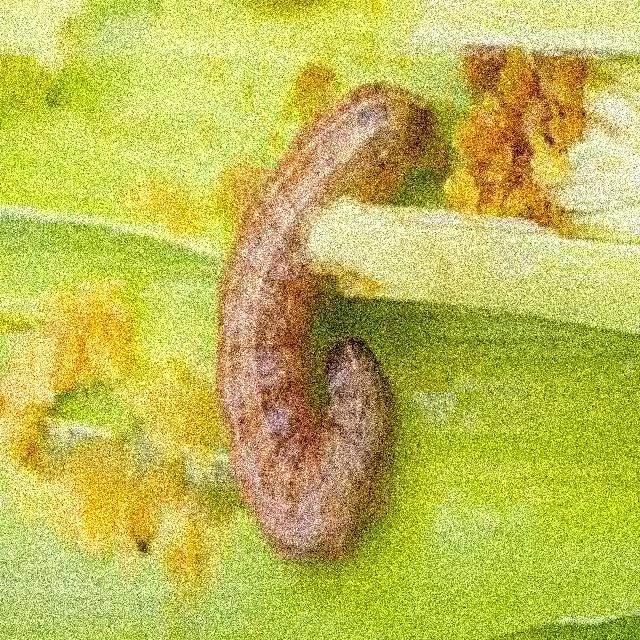Plaga: (212, 80, 437, 565)
